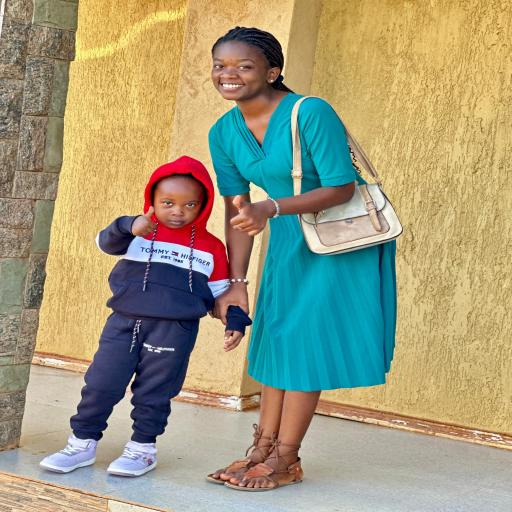LAURENE: (201, 24, 288, 110)
